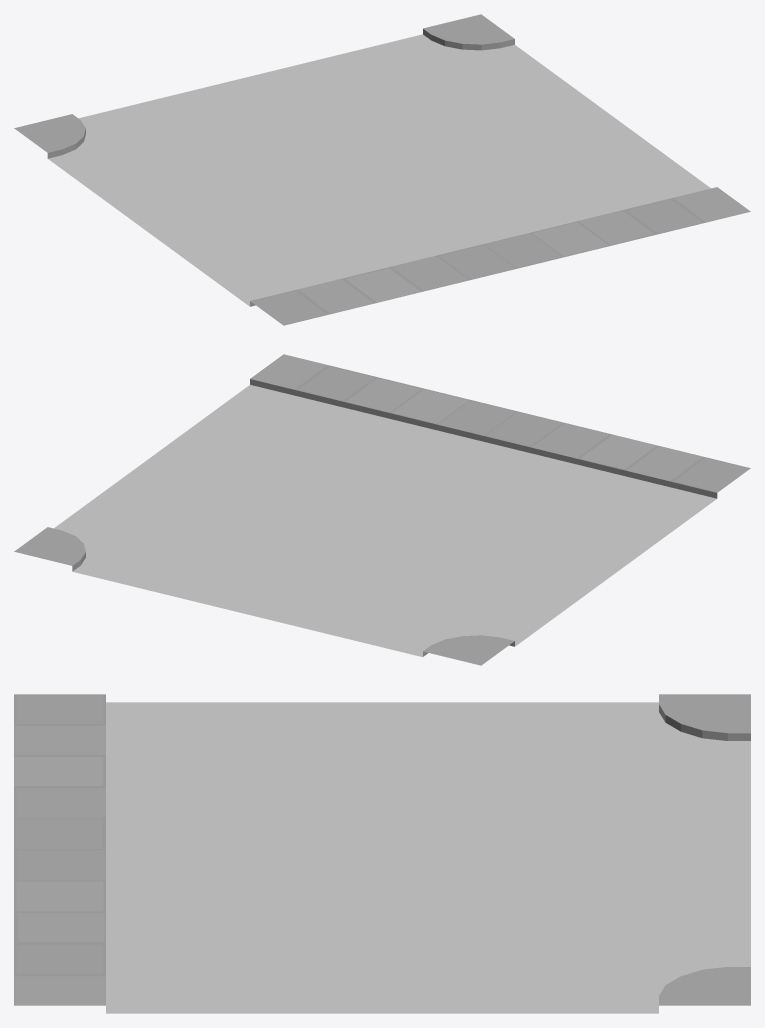
Rendered from tile_road_crossroad_1x1_a.fbx.
3 views of the same model, one above another, from view 1: azimuth 30°, elevation 25°; view 2: azimuth 150°, elevation 25°; view 3: azimuth 270°, elevation 25° (orthographic). The views are drawn at different scales.
Visible parts, largest first — view 1: tile_road_crossroad_1x1_a; view 2: tile_road_crossroad_1x1_a; view 3: tile_road_crossroad_1x1_a.
Part boxes in pixels (x1=…): tile_road_crossroad_1x1_a: x1=14, y1=14, x2=750, y2=325; tile_road_crossroad_1x1_a: x1=14, y1=354, x2=750, y2=665; tile_road_crossroad_1x1_a: x1=14, y1=694, x2=750, y2=1013.
Bounding box in the file's own units: 1600 × 19.01 × 1600.
